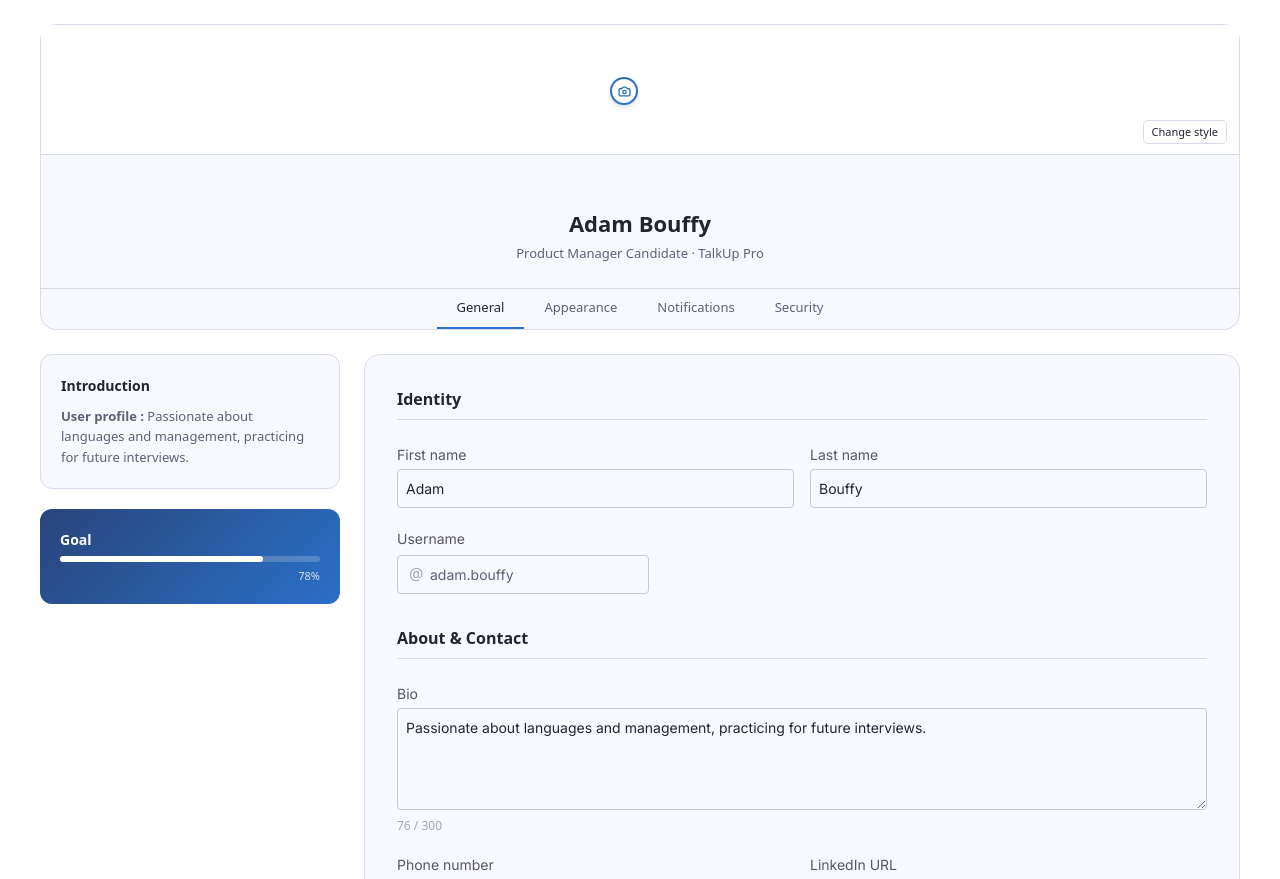
Test: Profile page › Avatar dropdown menu › closes the dropdown when choosing a photo
Step 1. Click the button with test id "avatar-camera-button" → [624, 91], box [610, 77, 638, 105]
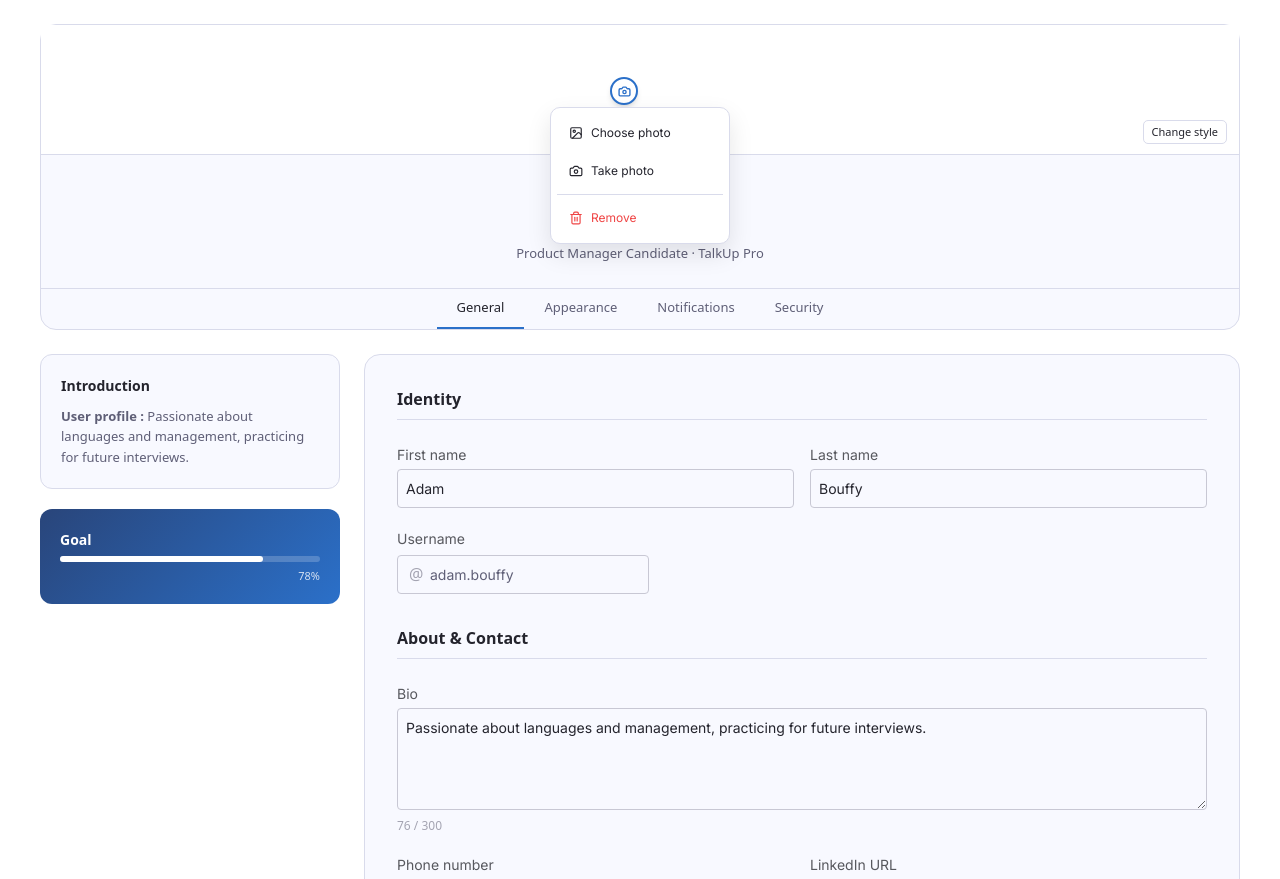
Step 2. Click the button "Choose photo" → [640, 133], box [557, 114, 723, 152]
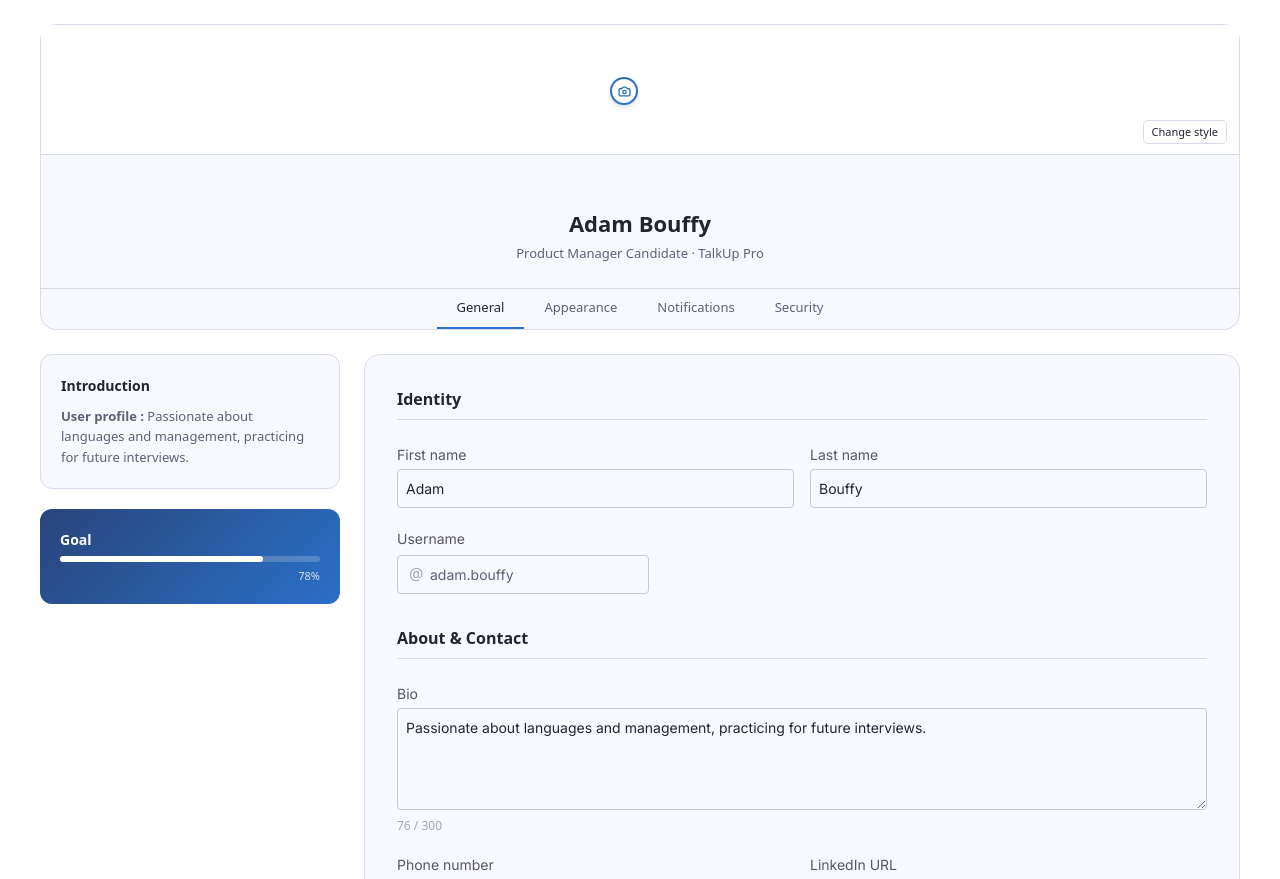
Result: the element with test id "avatar-dropdown-menu" is gone
